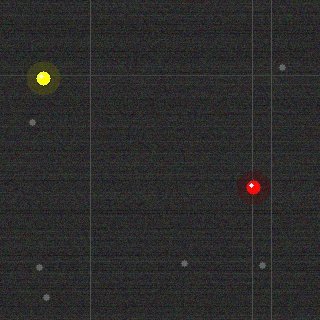red_fault: (244, 178, 262, 196)
yellow_warning: (34, 69, 52, 87)
